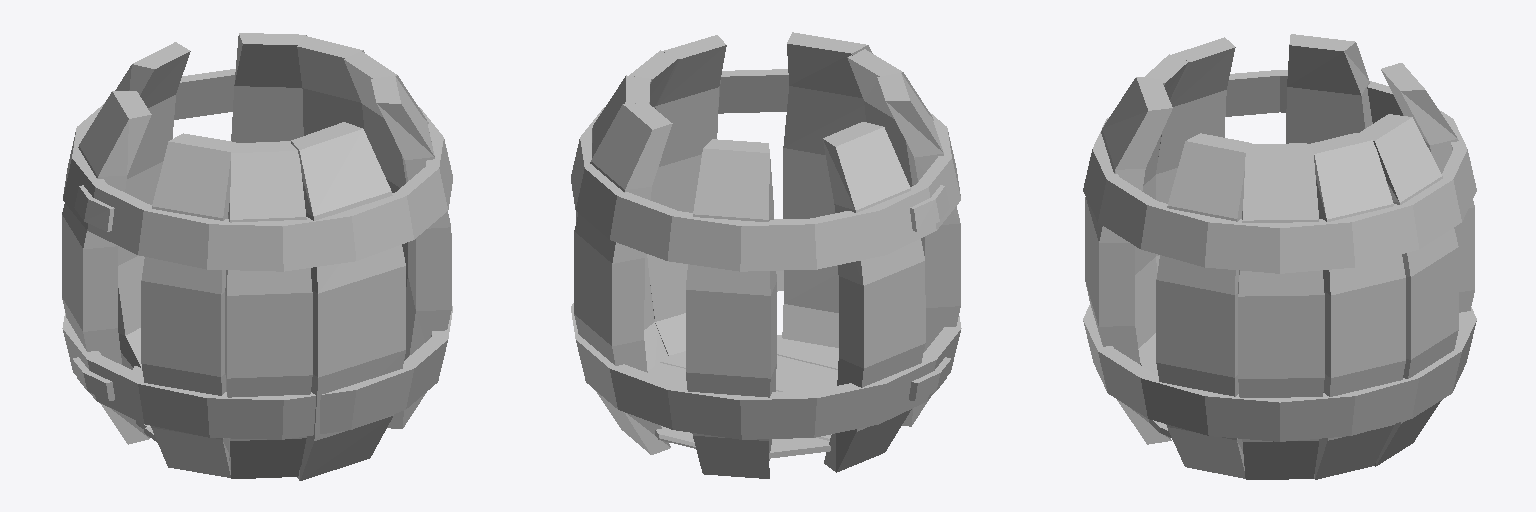
File: barrio_velho_01.obj
3 views of the same model, side by side, from view 1: azimuth 30°, elevation 25°; view 2: azimuth 150°, elevation 25°; view 3: azimuth 270°, elevation 25° (orthographic).
Visible parts, largest first — view 1: Circle.002_Circle.003, Plane.002, Plane.000_Plane.004, Plane.003_Plane.006, Plane.007_Plane.010, Plane.010_Plane.013, Plane.004_Plane.007, Plane.008_Plane.011, Plane.009_Plane.012, Plane.011_Plane.014; view 2: Circle.002_Circle.003, Plane.004_Plane.007, Plane.007_Plane.010, Plane.002, Plane.008_Plane.011, Plane.010_Plane.013, Plane.003_Plane.006, Plane.000_Plane.004, Plane.011_Plane.014, Plane.014_Plane.018, Plane.009_Plane.012, Plane_Plane.016 (+2 smaller); view 3: Circle.002_Circle.003, Plane.011_Plane.014, Plane.010_Plane.013, Plane.009_Plane.012, Plane.008_Plane.011, Plane.002, Plane.007_Plane.010, Plane.003_Plane.006, Plane.004_Plane.007, Plane.000_Plane.004.
Part boxes in pixels (left/top/right/bottom): Circle.002_Circle.003: left=62, top=69, right=452, bottom=439; Plane.002: left=291, top=122, right=405, bottom=480; Plane.000_Plane.004: left=225, top=141, right=312, bottom=478; Plane.003_Plane.006: left=141, top=133, right=235, bottom=477; Plane.007_Plane.010: left=62, top=91, right=151, bottom=444; Plane.010_Plane.013: left=371, top=75, right=451, bottom=428; Plane.004_Plane.007: left=115, top=42, right=190, bottom=369; Plane.008_Plane.011: left=231, top=33, right=306, bottom=142; Plane.009_Plane.012: left=297, top=36, right=364, bottom=135; Plane.011_Plane.014: left=344, top=51, right=428, bottom=286; Circle.002_Circle.003: left=571, top=69, right=961, bottom=439; Plane.004_Plane.007: left=686, top=139, right=776, bottom=478; Plane.007_Plane.010: left=823, top=122, right=925, bottom=472; Plane.002: left=782, top=32, right=872, bottom=347; Plane.008_Plane.011: left=574, top=103, right=672, bottom=454; Plane.010_Plane.013: left=647, top=35, right=726, bottom=355; Plane.003_Plane.006: left=877, top=73, right=960, bottom=426; Plane.000_Plane.004: left=847, top=49, right=933, bottom=186; Plane.011_Plane.014: left=629, top=50, right=678, bottom=370; Plane.014_Plane.018: left=660, top=351, right=837, bottom=391; Plane.009_Plane.012: left=576, top=75, right=650, bottom=221; Plane_Plane.016: left=655, top=426, right=830, bottom=458; Circle.002_Circle.003: left=1083, top=70, right=1476, bottom=441; Plane.011_Plane.014: left=1238, top=143, right=1324, bottom=479; Plane.010_Plane.013: left=1156, top=133, right=1251, bottom=478; Plane.009_Plane.012: left=1308, top=133, right=1405, bottom=479; Plane.008_Plane.011: left=1359, top=114, right=1458, bottom=466; Plane.002: left=1085, top=77, right=1172, bottom=444; Plane.007_Plane.010: left=1286, top=34, right=1372, bottom=143; Plane.003_Plane.006: left=1156, top=37, right=1235, bottom=270; Plane.004_Plane.007: left=1381, top=63, right=1474, bottom=312; Plane.000_Plane.004: left=1135, top=54, right=1188, bottom=373.
Size of the model in its own units: 2.8 by 2.56 by 2.77.